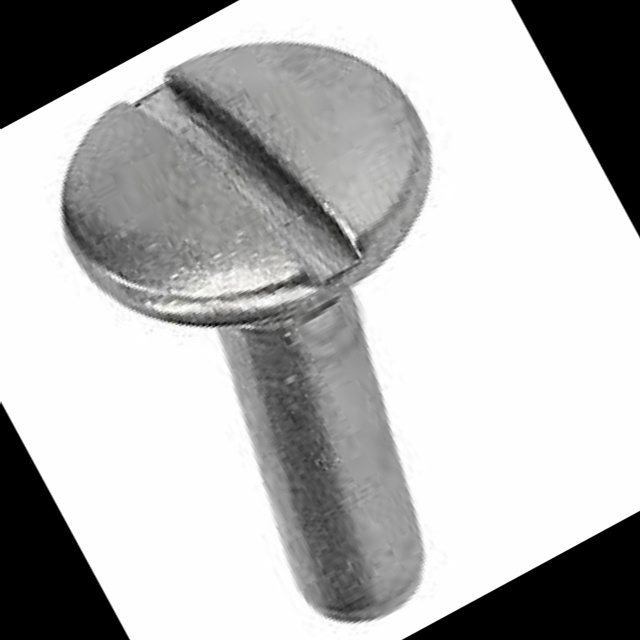duz: (13, 0, 474, 397)
